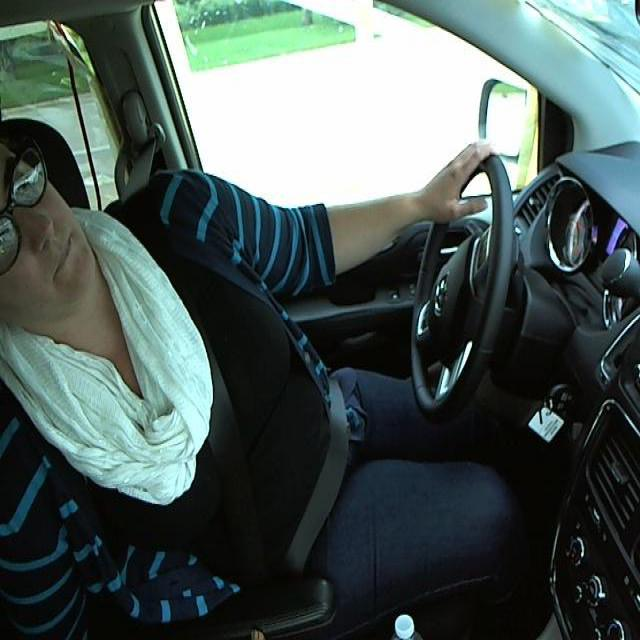seatbelt: (168, 260, 353, 564)
